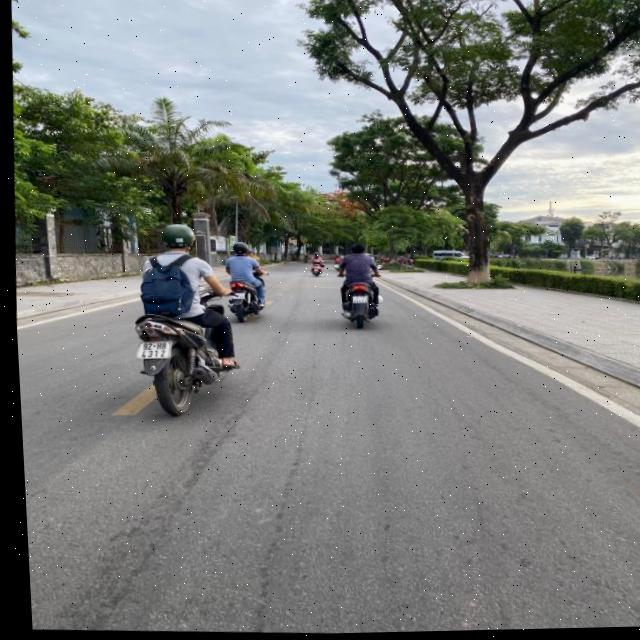motorcycle: (125, 301, 229, 423), (334, 279, 385, 331), (221, 276, 268, 323)
plate: (135, 336, 176, 363), (340, 306, 358, 322)
